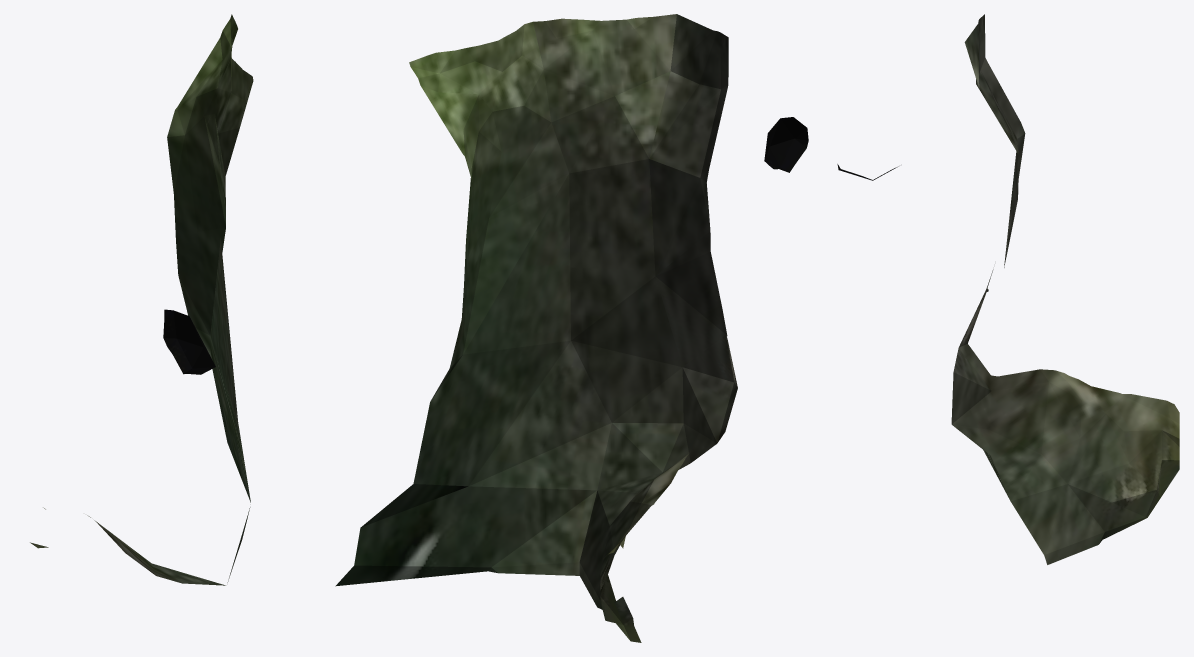
The picture shows the model from 3 angles, left to right: view 1: azimuth 30°, elevation 25°; view 2: azimuth 150°, elevation 25°; view 3: azimuth 270°, elevation 25°; orthographic projection. The views are drawn at different scales.
Size of the model in its own units: 1.64 by 2.95 by 1.83.
Materials: 2 (2 with a texture image).
